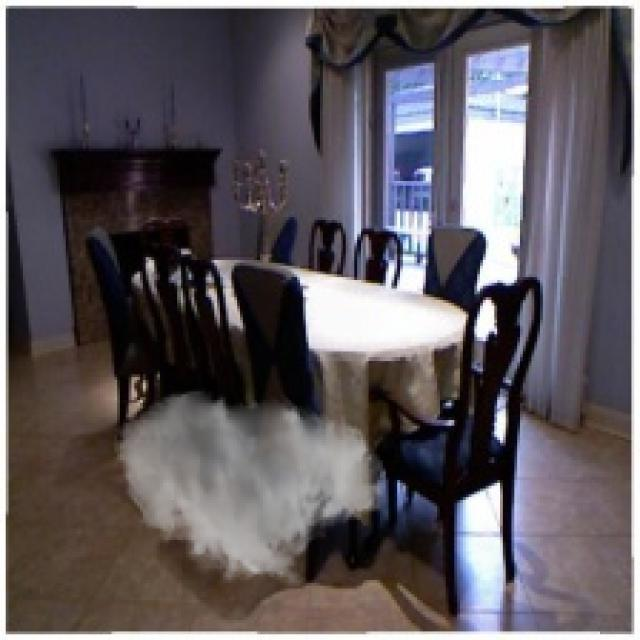Smoke: (112, 388, 388, 588)
